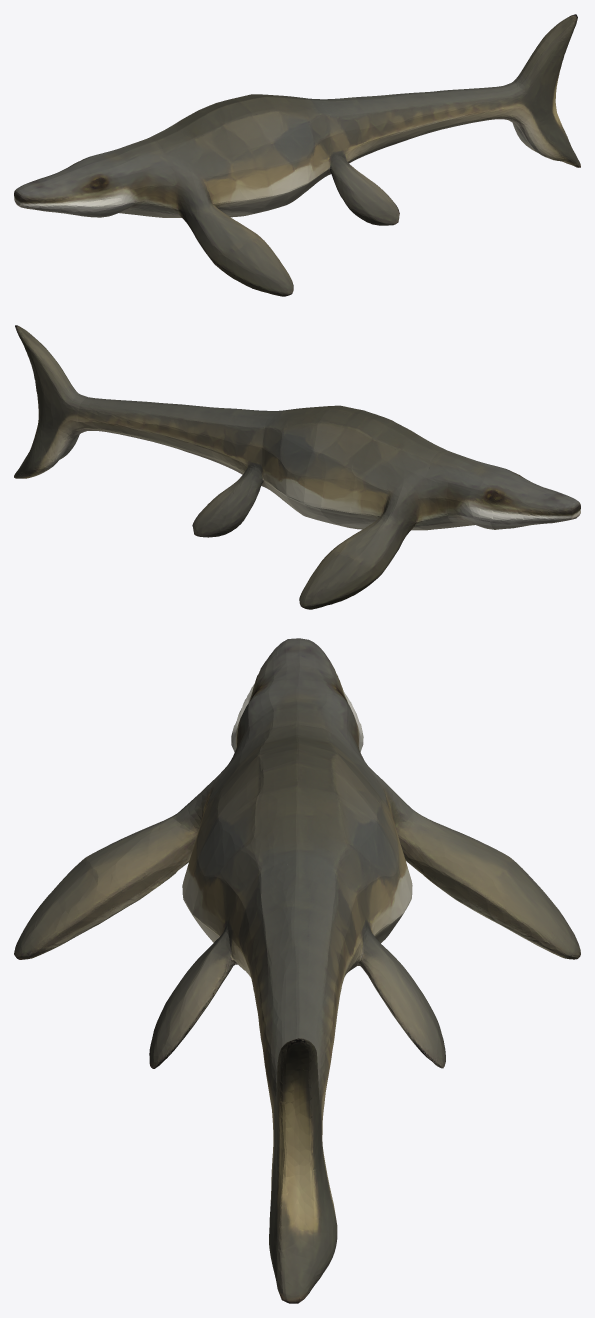
3 renders of one model, top to bottom at view 1: azimuth 30°, elevation 25°; view 2: azimuth 150°, elevation 25°; view 3: azimuth 270°, elevation 25°, orthographic. The views are drawn at different scales.
Visible parts, largest first — view 1: world; view 2: world; view 3: world.
Part boxes in pixels (<box>): world: <box>14,14,580,296</box>; world: <box>14,325,580,609</box>; world: <box>14,638,580,1303</box>.
Size of the model in its own units: 1 by 0.2591 by 0.504.
Materials: 1 (1 with a texture image).
